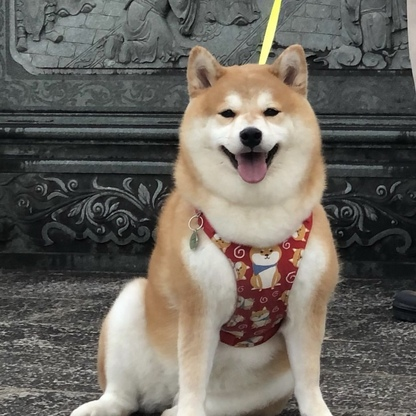shiba: (65, 38, 345, 416)
